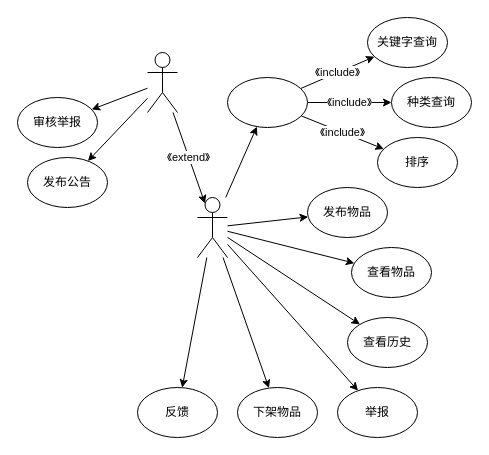
The diagram is 489 pixels wide and 455 high, and some of its shapes have lost their labels. The shapes that lost their labels are listed below. From the top down, each one's centre as x and y in pixels, then its label:
[162,82]: admin
[267,102]: 查询物品
[212,227]: user
